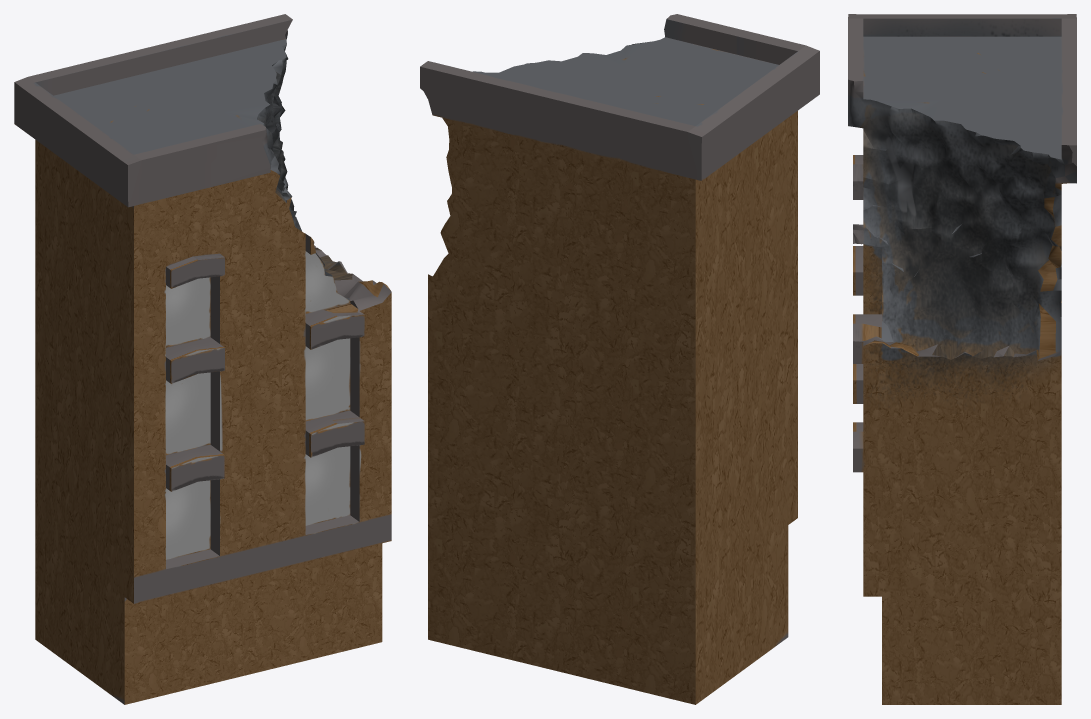
The model's file is Bgmd_billding.fbx.
3 views of the same model, side by side, from view 1: azimuth 30°, elevation 25°; view 2: azimuth 150°, elevation 25°; view 3: azimuth 270°, elevation 25° (orthographic). The views are drawn at different scales.
Visible parts, largest first — view 1: polySurface2; view 2: polySurface2; view 3: polySurface2.
Part boxes in pixels (x1,y1,x2,y2): polySurface2: (14, 14, 391, 704); polySurface2: (420, 14, 819, 704); polySurface2: (848, 14, 1076, 704).
Bounding box in the file's own units: 1052 × 2066 × 765.
1 material, 1 textured.
